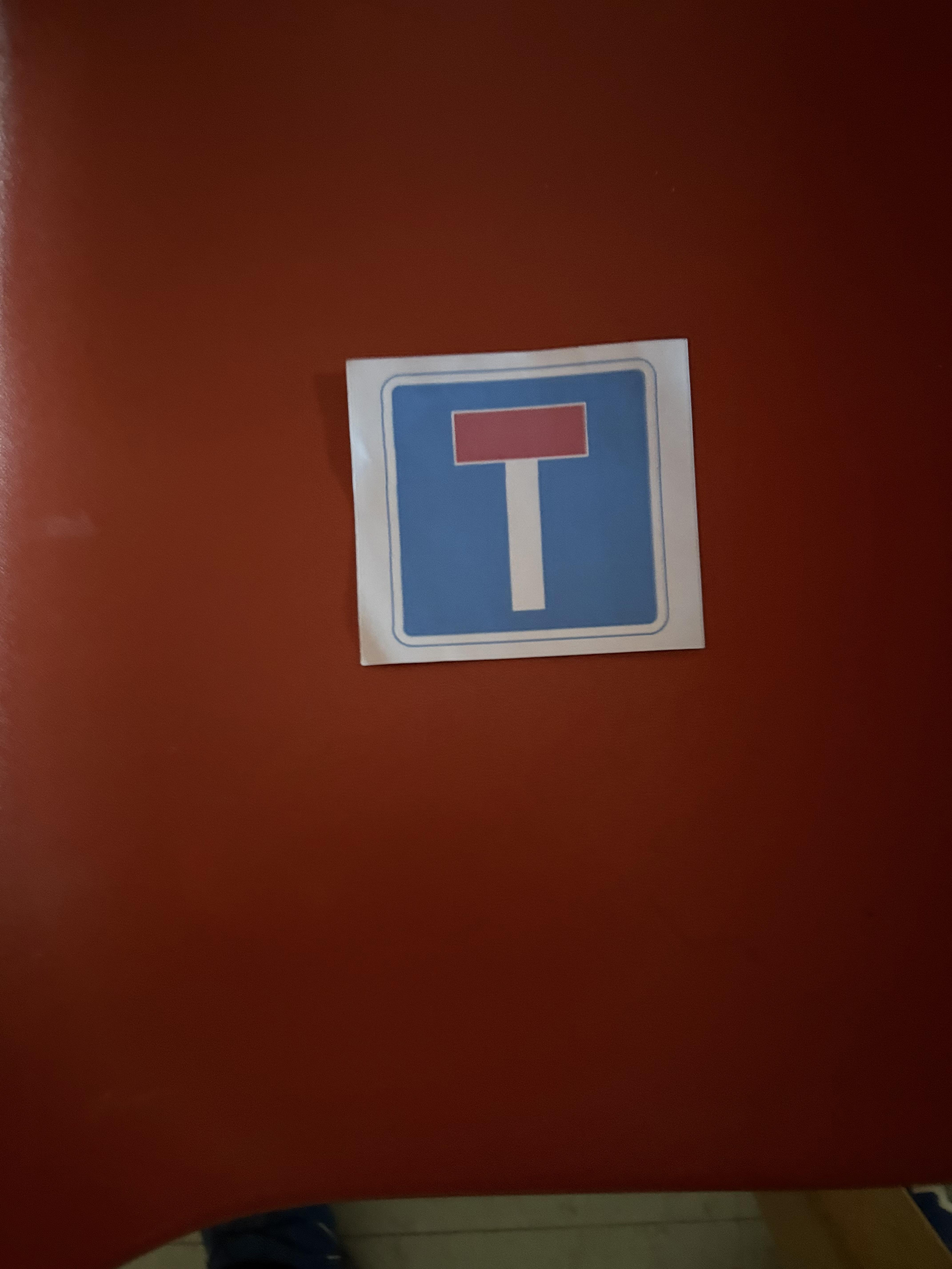Dead End: (344, 341, 709, 679)
